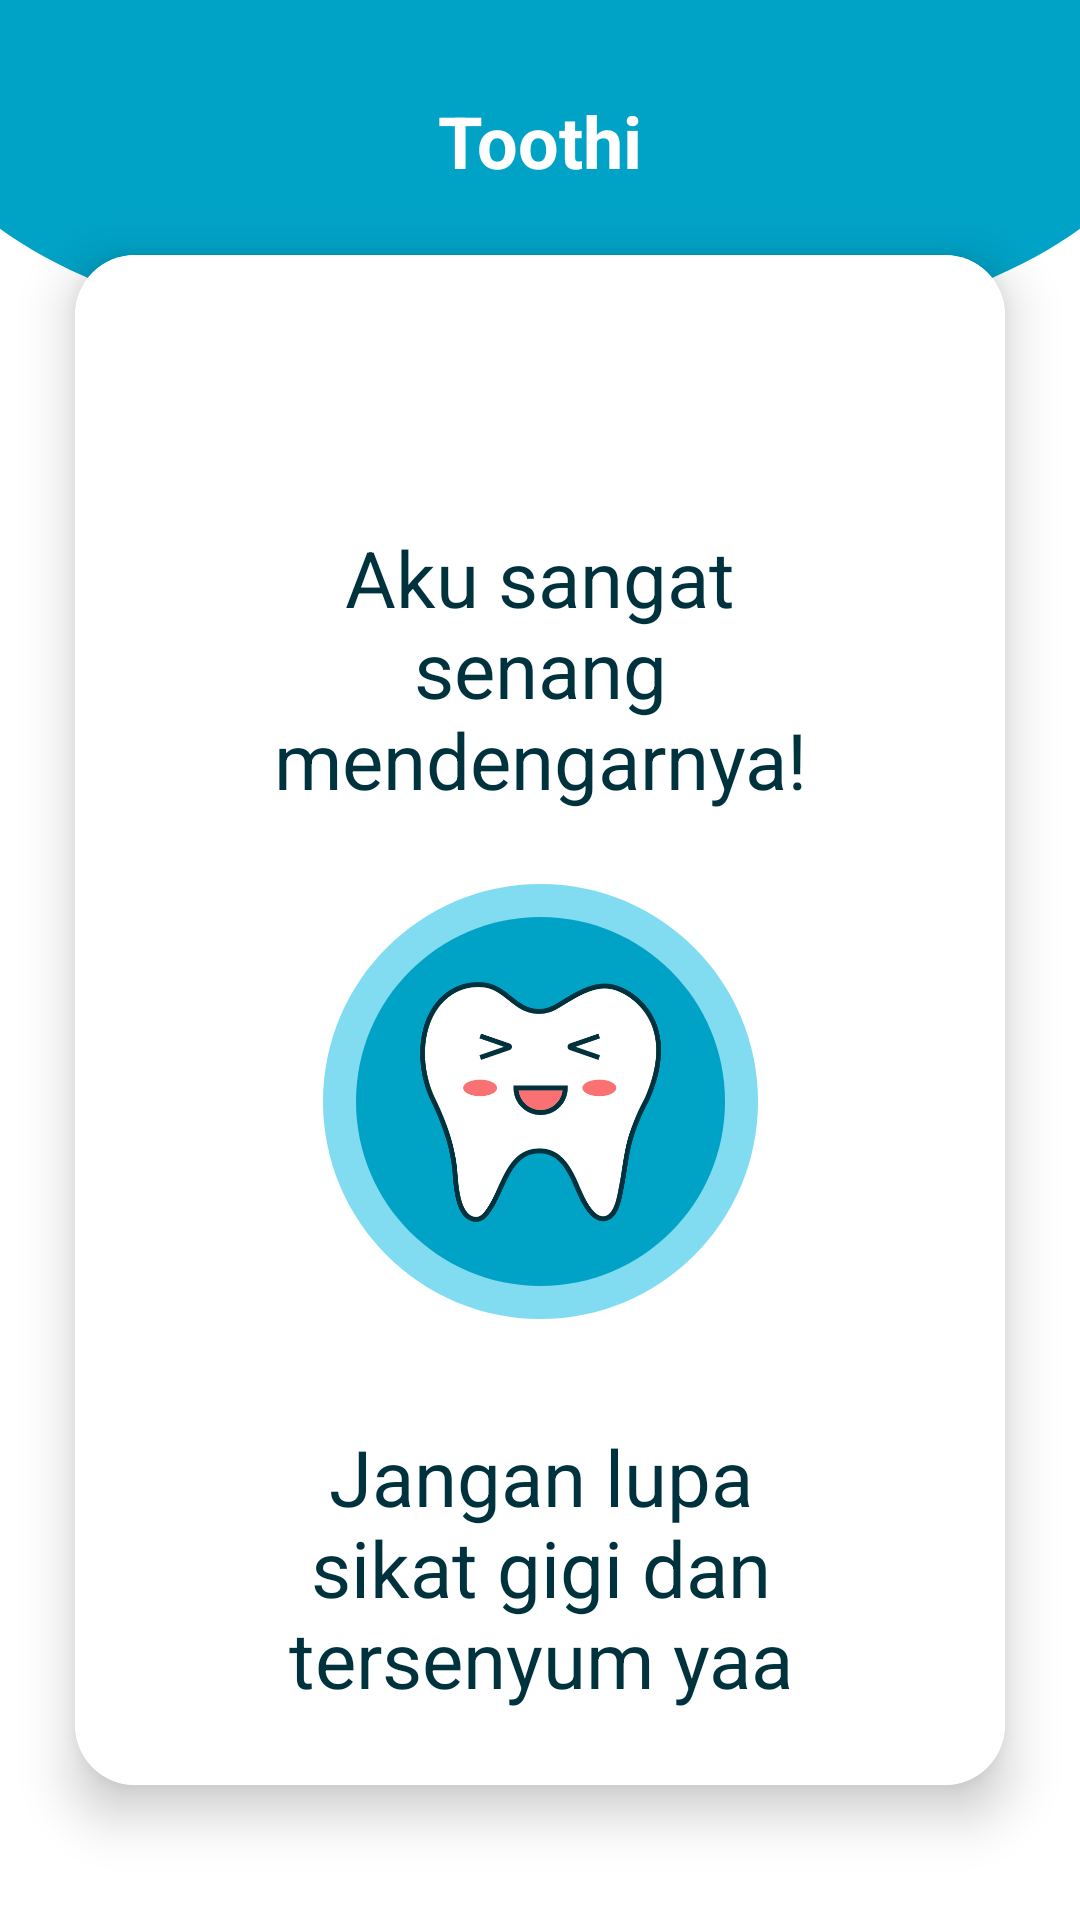

Icons on this 1080×1920 Android screen, each with its box as rect(x1, y1, x2, y2):
Toothi: rect(420, 982, 661, 1222)
